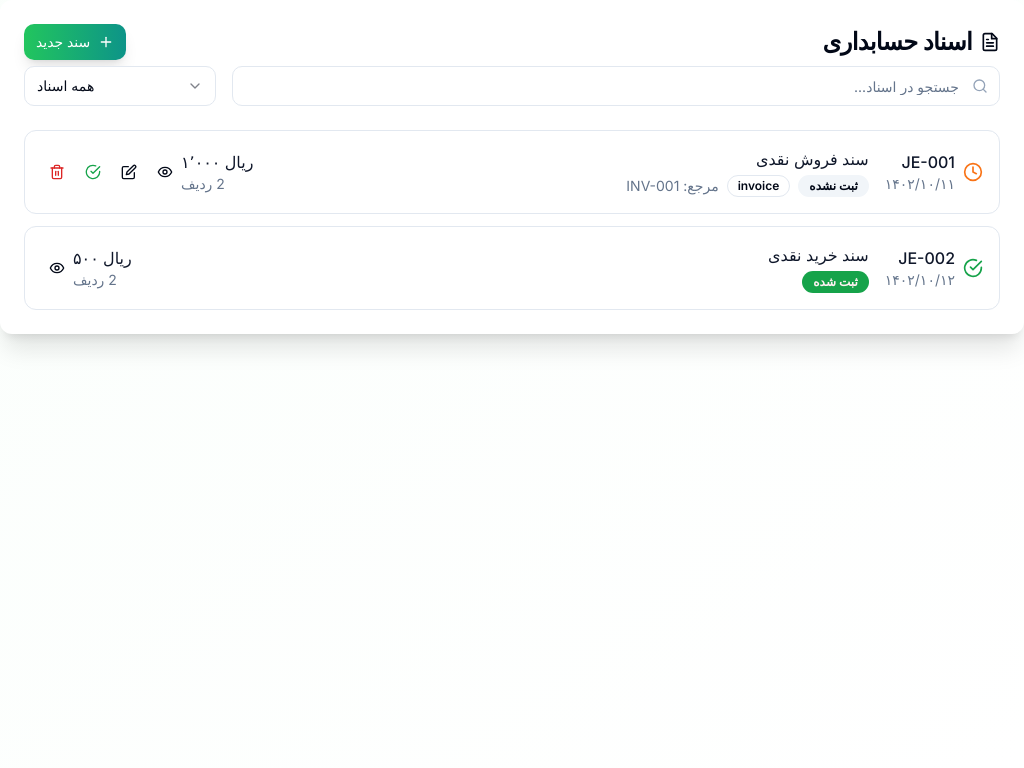
JournalEntries › should open view modal when view button is clicked
The width and height of the screenshot is (1024, 768).
Expected: the text "JE-001" is shown, [902,152,955,172]
Click the 5th button at (165, 172), box [149,156,181,188]
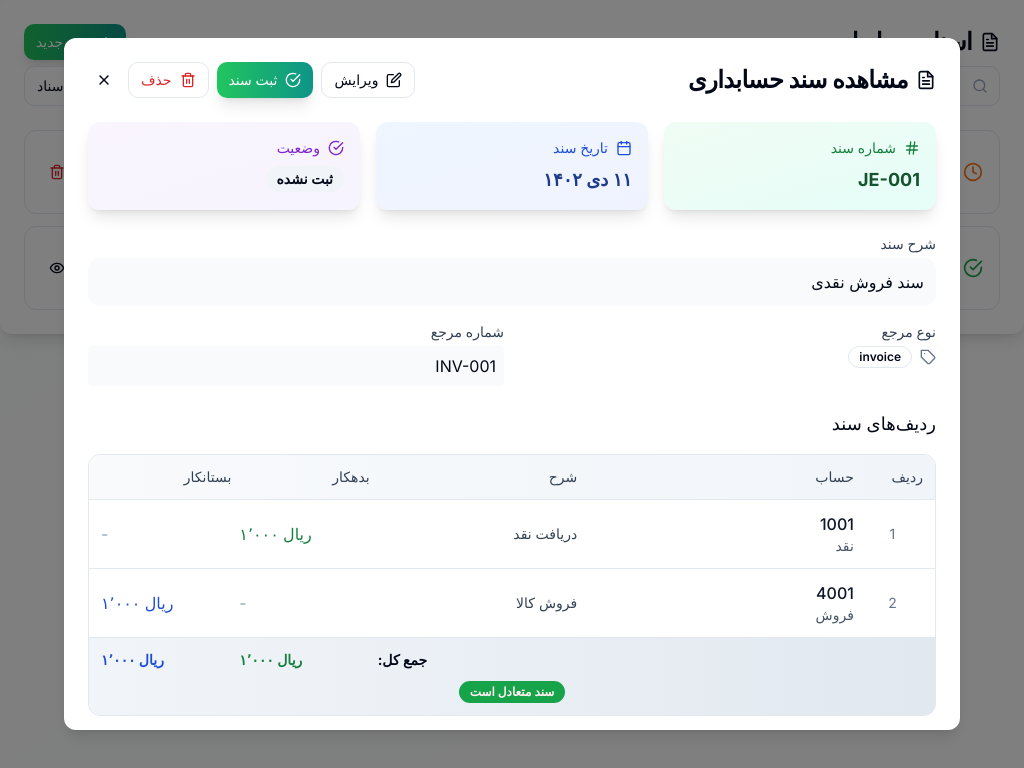
Now the heading "مشاهده سند حسابداری" is shown, box [688,68,936,92]
